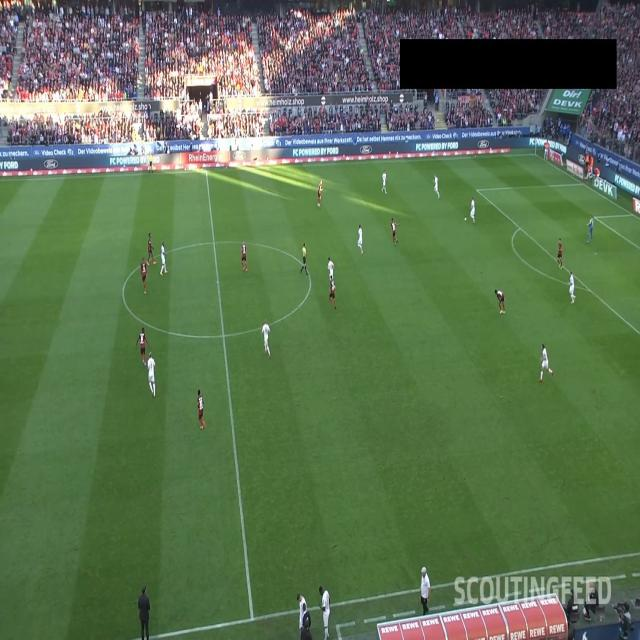ball: (464, 216, 467, 222)
